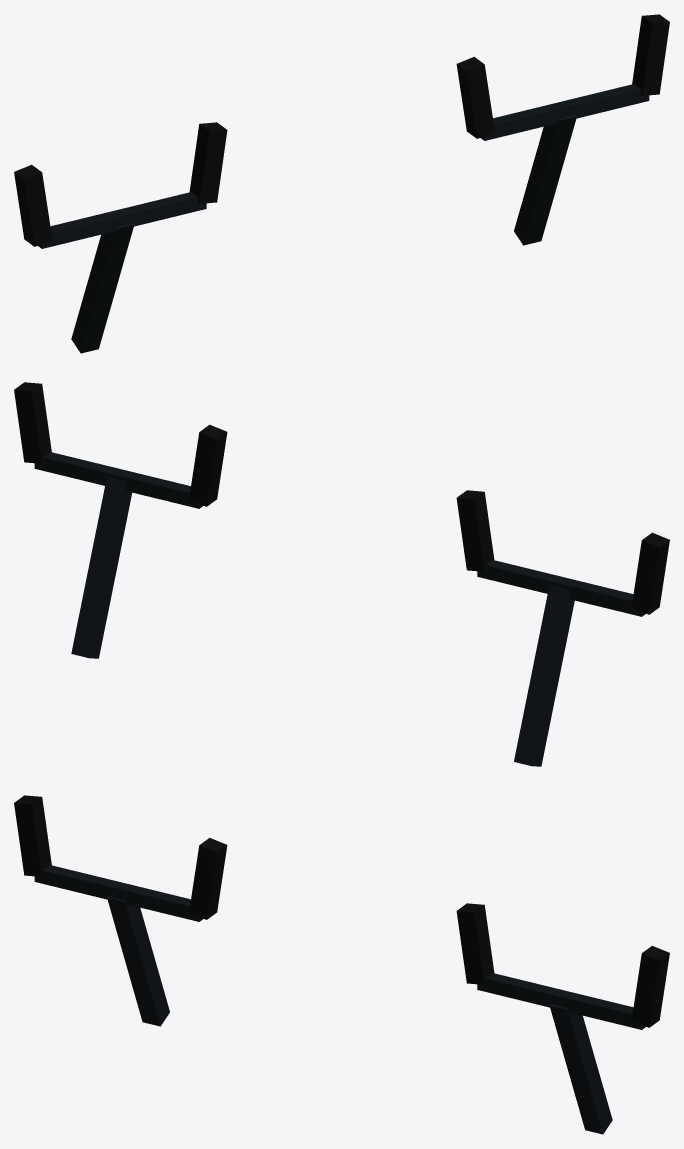
The model's file is Cockpit_Transport__Yoke.obj.
The picture shows the model from 3 angles, top to bottom: view 1: azimuth 30°, elevation 25°; view 2: azimuth 150°, elevation 25°; view 3: azimuth 330°, elevation 25°; orthographic projection.
Visible parts, largest first — view 1: Yoke_column, Yoke_column.001, Yoke_grip.003, Yoke_grip.001, Yoke_grip, Yoke_grip.002, Yoke_crossbar.001, Yoke_crossbar.003, Yoke_crossbar, Yoke_crossbar.002; view 2: Yoke_column, Yoke_column.001, Yoke_grip.001, Yoke_grip.003, Yoke_grip, Yoke_grip.002, Yoke_crossbar.001, Yoke_crossbar.003, Yoke_crossbar, Yoke_crossbar.002; view 3: Yoke_column.001, Yoke_column, Yoke_grip, Yoke_grip.002, Yoke_grip.003, Yoke_grip.001, Yoke_crossbar, Yoke_crossbar.002, Yoke_crossbar.003, Yoke_crossbar.001.
Part boxes in pixels (box(x1,y1,x2,y2)): Yoke_column: box(71, 223, 134, 353); Yoke_column.001: box(514, 115, 576, 245); Yoke_grip.003: box(632, 14, 669, 95); Yoke_grip.001: box(189, 122, 227, 203); Yoke_grip: box(14, 164, 52, 246); Yoke_grip.002: box(456, 56, 494, 138); Yoke_crossbar.001: box(117, 192, 206, 226); Yoke_crossbar.003: box(560, 84, 649, 118); Yoke_crossbar: box(38, 210, 124, 248); Yoke_crossbar.002: box(480, 102, 566, 140); Yoke_column: box(514, 585, 574, 766); Yoke_column.001: box(71, 477, 131, 658); Yoke_grip.001: box(456, 490, 494, 571); Yoke_grip.003: box(14, 382, 51, 463); Yoke_grip: box(631, 532, 669, 614); Yoke_grip.002: box(189, 424, 227, 506); Yoke_crossbar.001: box(477, 560, 566, 593); Yoke_crossbar.003: box(34, 452, 123, 485); Yoke_crossbar: box(559, 578, 645, 616); Yoke_crossbar.002: box(117, 470, 203, 508); Yoke_column.001: box(549, 1004, 612, 1134); Yoke_column: box(107, 896, 169, 1026); Yoke_grip: box(14, 795, 51, 876); Yoke_grip.002: box(456, 903, 494, 984); Yoke_grip.003: box(631, 945, 669, 1027); Yoke_grip.001: box(189, 837, 227, 919); Yoke_crossbar: box(34, 865, 123, 899); Yoke_crossbar.002: box(477, 973, 566, 1007); Yoke_crossbar.003: box(559, 991, 645, 1029); Yoke_crossbar.001: box(117, 883, 203, 921).
Bounding box in the file's own units: 1.25 × 0.4196 × 0.1536.
